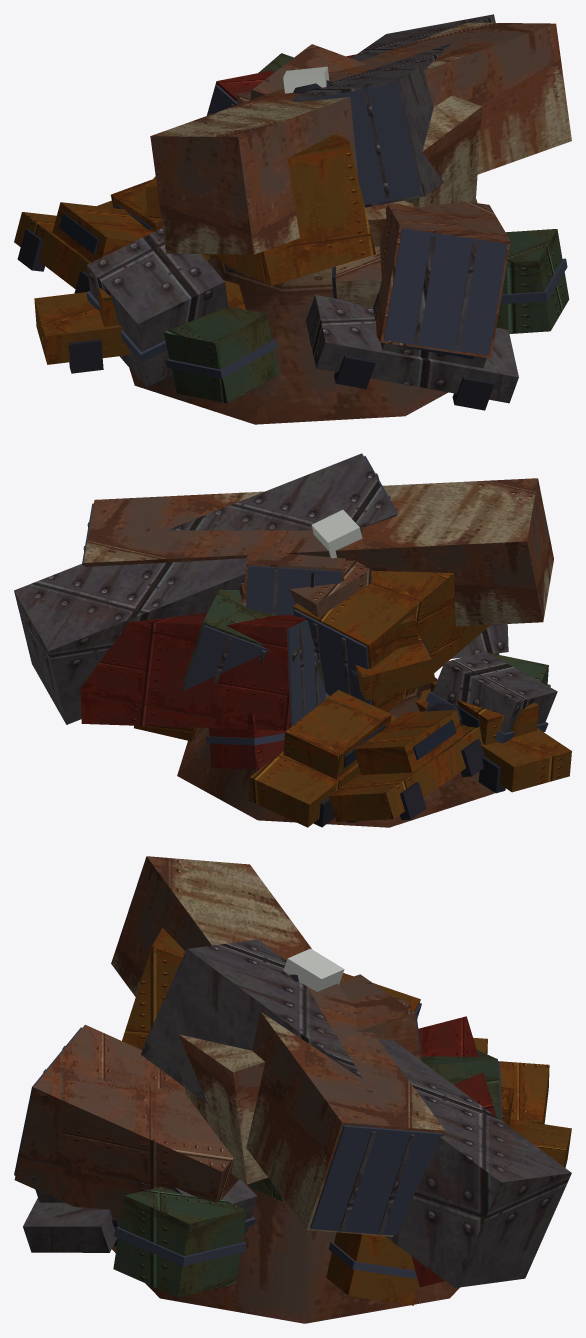
The model's file is scrap_pile_m.glb.
3 views of the same model, one above another, from view 1: azimuth 30°, elevation 25°; view 2: azimuth 150°, elevation 25°; view 3: azimuth 270°, elevation 25° (orthographic). The views are drawn at different scales.
Visible parts, largest first — view 1: scrap_pile_m; view 2: scrap_pile_m; view 3: scrap_pile_m.
Boxes of the visible parts, left/top/right/bottom form: scrap_pile_m: left=14, top=14, right=571, bottom=424; scrap_pile_m: left=14, top=453, right=571, bottom=827; scrap_pile_m: left=14, top=856, right=571, bottom=1323.
Bounding box in the file's own units: 10.88 × 5.68 × 9.32.
10 materials, 6 textured.
